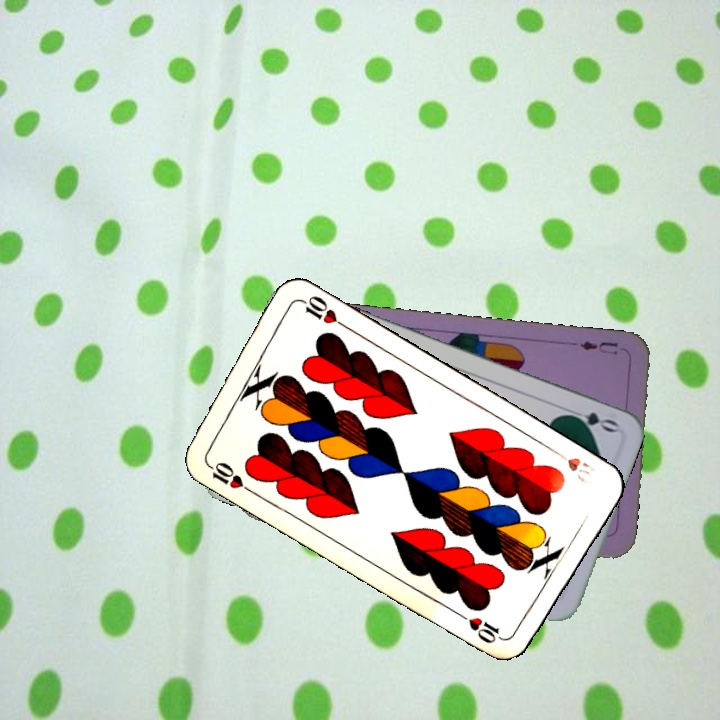EU: (575, 337, 621, 358)
GO: (561, 404, 621, 436)
H10: (548, 445, 600, 485), (202, 458, 255, 496)
